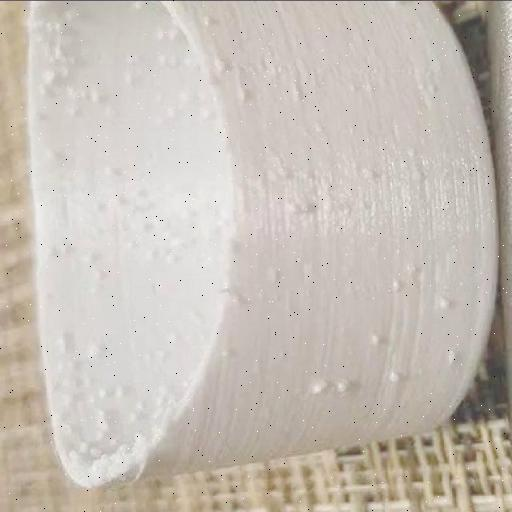blobs: (36, 61, 61, 86), (330, 375, 356, 395), (431, 290, 451, 316), (364, 330, 386, 352), (396, 259, 422, 277), (441, 344, 460, 368), (233, 81, 252, 105), (308, 374, 328, 394), (382, 365, 400, 387), (99, 161, 119, 179), (138, 219, 156, 239), (86, 438, 104, 458), (387, 276, 405, 294), (212, 56, 230, 74), (264, 266, 282, 284), (154, 51, 172, 69), (88, 85, 104, 105), (113, 382, 133, 398), (287, 196, 301, 218), (357, 168, 379, 182), (119, 67, 135, 85), (45, 242, 61, 260), (86, 344, 104, 360), (216, 344, 234, 360), (202, 12, 216, 32), (99, 386, 116, 400), (90, 268, 108, 278), (86, 249, 96, 265)
